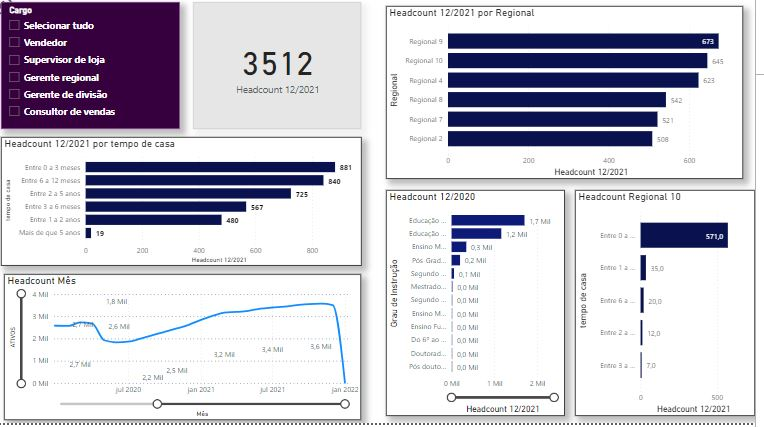

The page's visual inventory and layout, read from the dashboard file:
{"tool":"powerbi","page":{"name":" Headcount Geral","canvas":[1280,720],"ordinal":1},"visuals":[{"type":"actionButton","box":[0,0,100,40],"z":0},{"type":"lineChart","title":"Headcount Mês","fields":{"Category":["mensalizada.Mês"],"Y":["mensalizada.ATIVOS"]},"box":[20.2,469.4,599,244.8],"z":1000},{"type":"slicer","fields":{"Values":["mensalizada.Cargo"]},"box":[15.1,13.4,300.3,213.1],"z":2000},{"type":"card","fields":{"Values":["mensalizada.Headcount Vendedor"]},"box":[337.2,13.4,281.8,213.1],"z":3000},{"type":"clusteredBarChart","title":"Headcount 12/2020 ","fields":{"Category":["mensalizada.Grau de Instrução"],"Y":["mensalizada.Headcount 12/2021"]},"box":[661,328.8,300.3,379.1],"z":4000},{"type":"clusteredBarChart","fields":{"Y":["mensalizada.Headcount 12/2021"],"Category":["mensalizada.Regional"]},"box":[661,20.1,598.9,290.2],"z":5000},{"type":"clusteredBarChart","fields":{"Category":["mensalizada.tempo de casa"],"Y":["mensalizada.Headcount 12/2021"]},"box":[14.4,240.5,604.8,216],"z":6000},{"type":"clusteredBarChart","title":"Headcount Regional 10","fields":{"Y":["mensalizada.Headcount 12/2021"],"Category":["Ciclo_de_Vida.tempo de casa","mensalizada.Regional"]},"box":[978,328.8,302,379.1],"z":7000}]}

Visuals, with their boxes in screenshot pixels (x1, y1, x2, y2), scaled from the page's 1280x720 canvas onto the 764x427 screenshot:
actionButton: (0,0,60,24)
"Headcount Mês" lineChart: (12,278,370,424)
slicer - mensalizada.Cargo: (9,8,188,134)
card - mensalizada.Headcount Vendedor: (201,8,369,134)
"Headcount 12/2020 " clusteredBarChart: (395,195,574,420)
clusteredBarChart - mensalizada.Headcount 12/2021 x mensalizada.Regional: (395,12,752,184)
clusteredBarChart - mensalizada.tempo de casa x mensalizada.Headcount 12/2021: (9,143,370,271)
"Headcount Regional 10" clusteredBarChart: (584,195,763,420)
